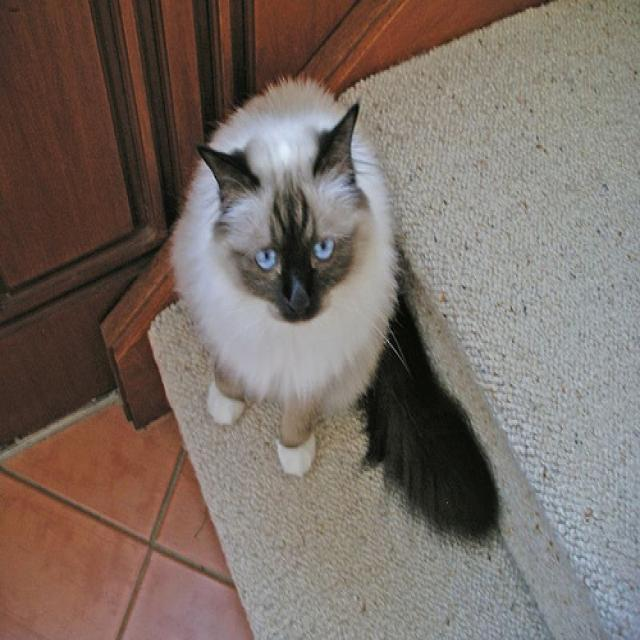Birman: (191, 92, 390, 347)
